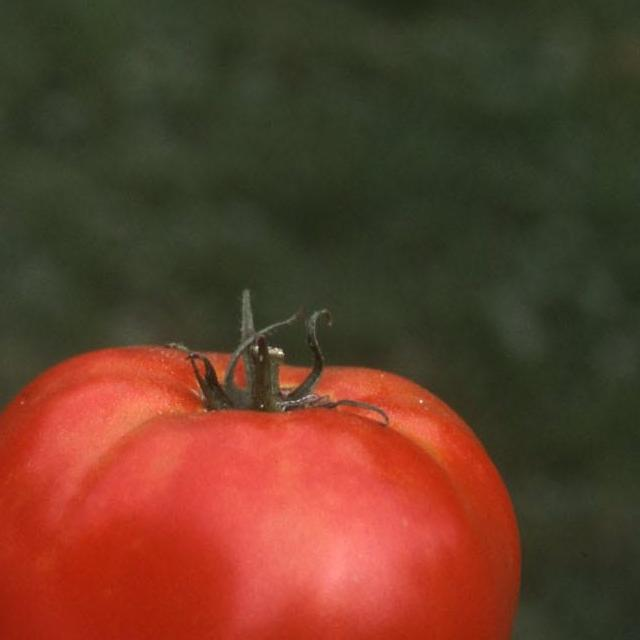tomato: (0, 294, 518, 640)
